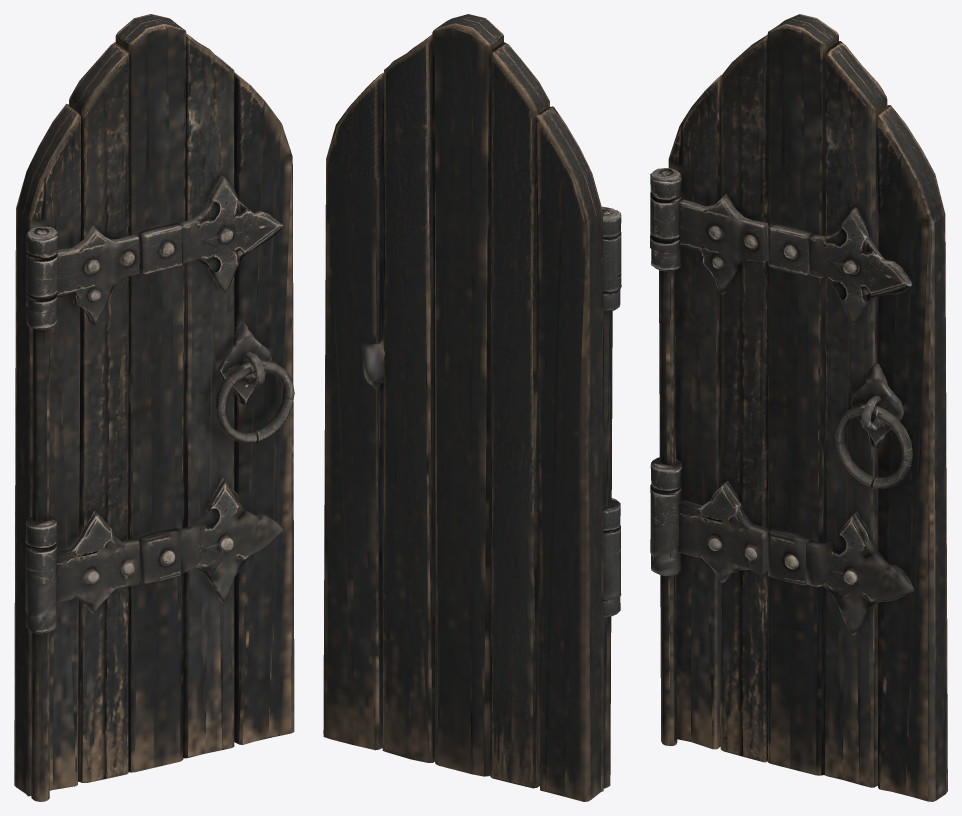
The model's file is door_gothic_leaf_v1.glb.
3 views of the same model, side by side, from view 1: azimuth 30°, elevation 25°; view 2: azimuth 150°, elevation 25°; view 3: azimuth 330°, elevation 25° (orthographic).
Bounding box in the file's own units: 0.3883 × 1 × 0.0994.
1 material, 1 textured.
